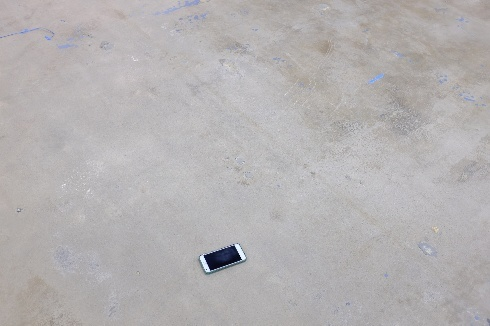phone: (196, 242, 245, 274)
